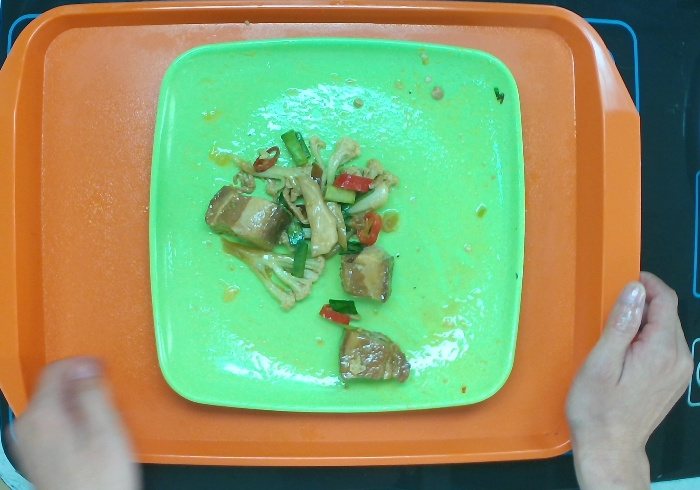ZNLD-Lv_Fang_Pan: (146, 34, 528, 414)
